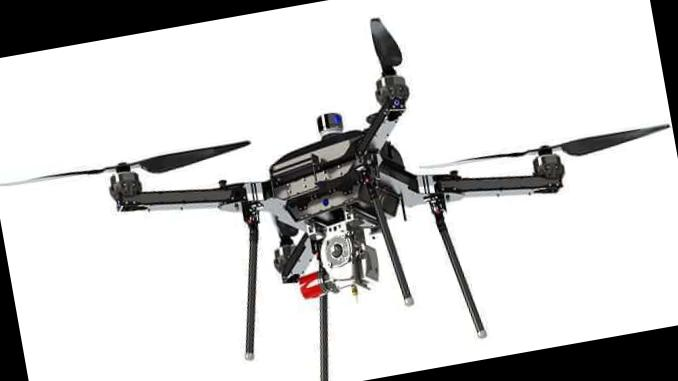drone: (0, 0, 678, 364)
